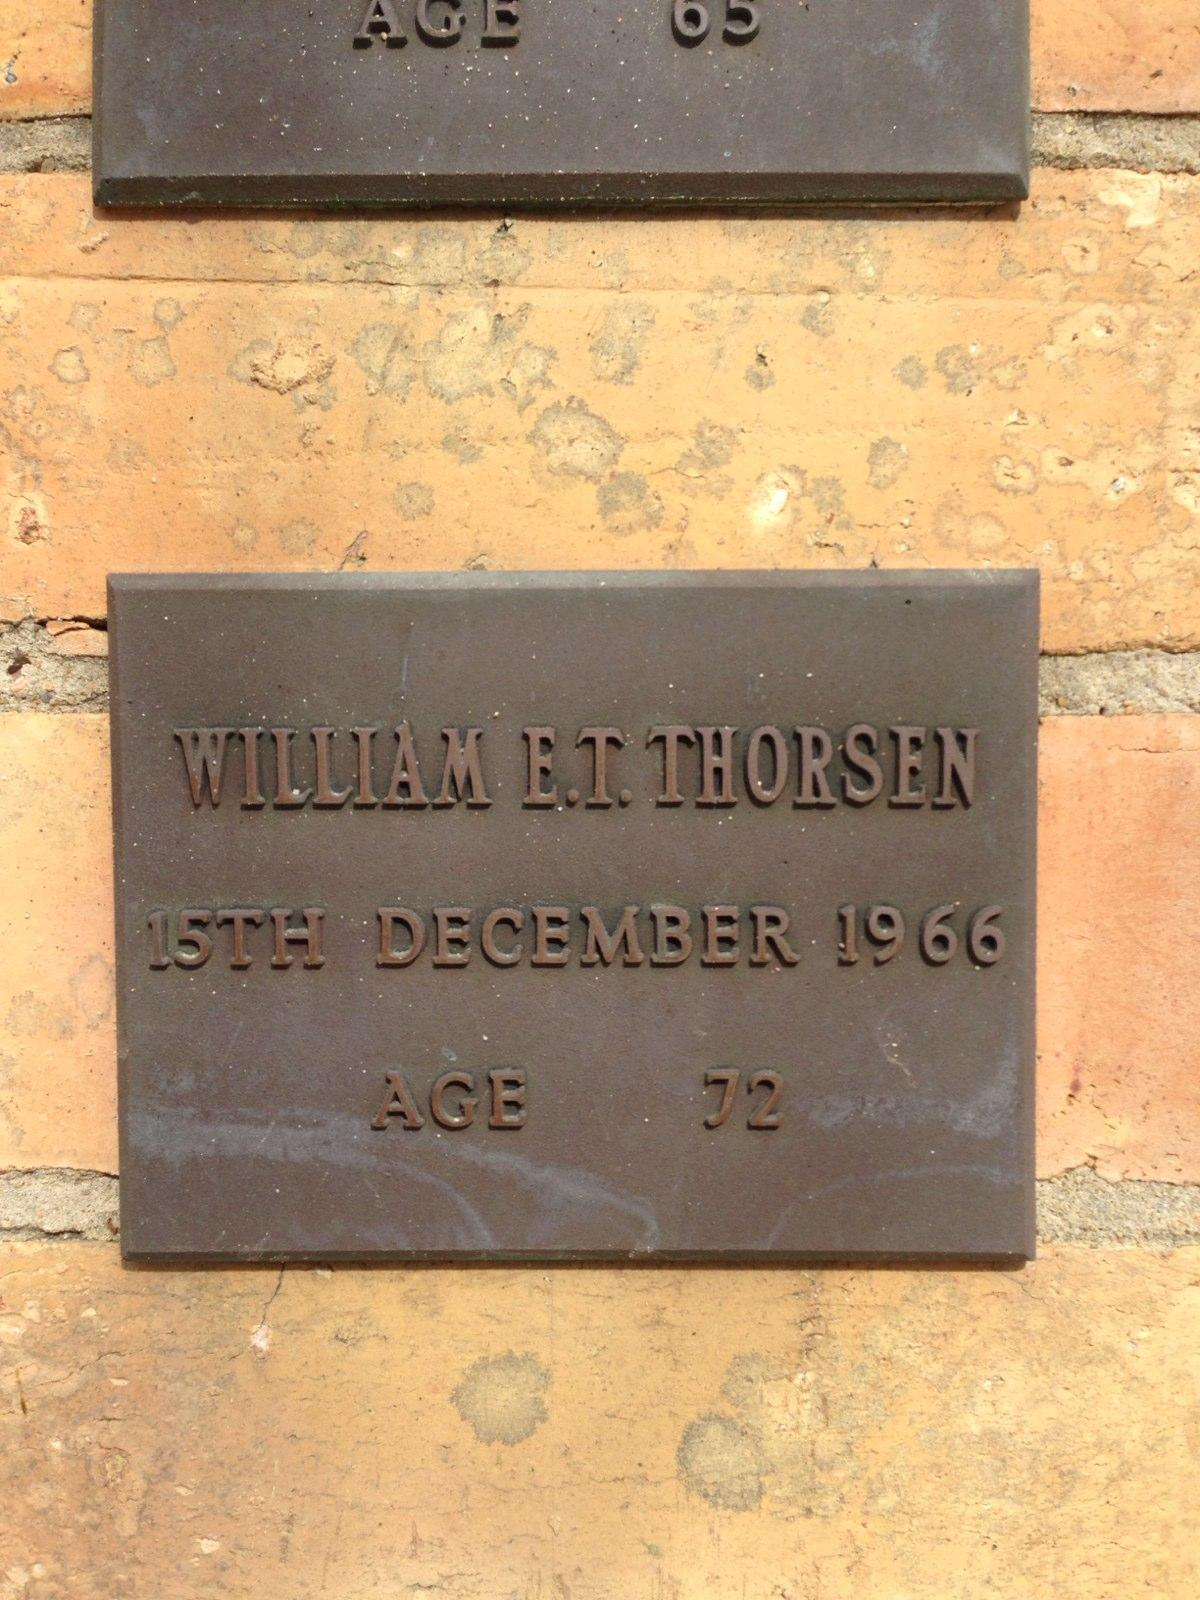plaque: (110, 566, 1042, 1274)
